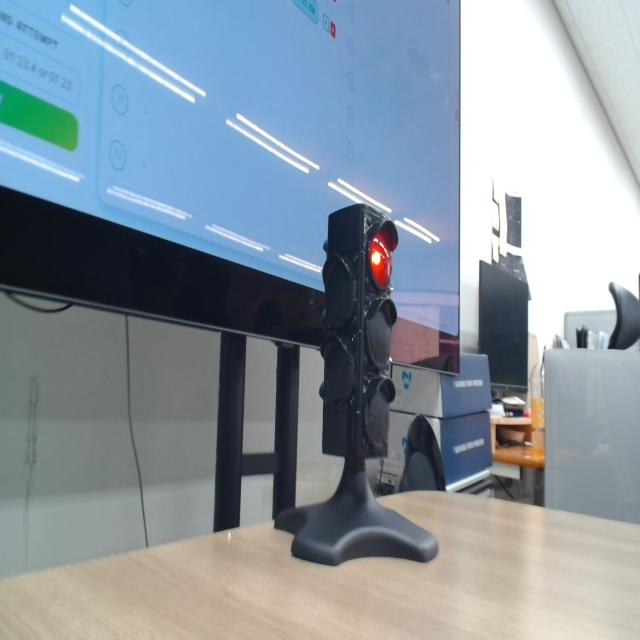red_light: (370, 228, 392, 287)
